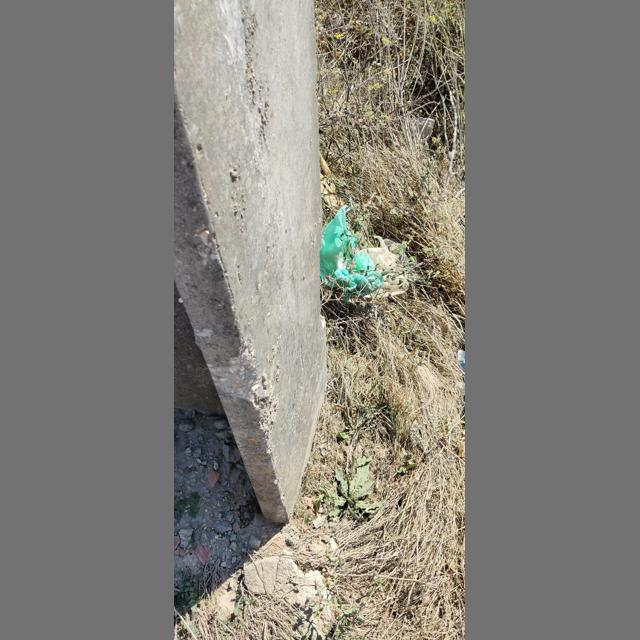litter: (320, 198, 385, 301), (357, 236, 411, 298), (416, 117, 435, 145), (455, 349, 465, 371)
